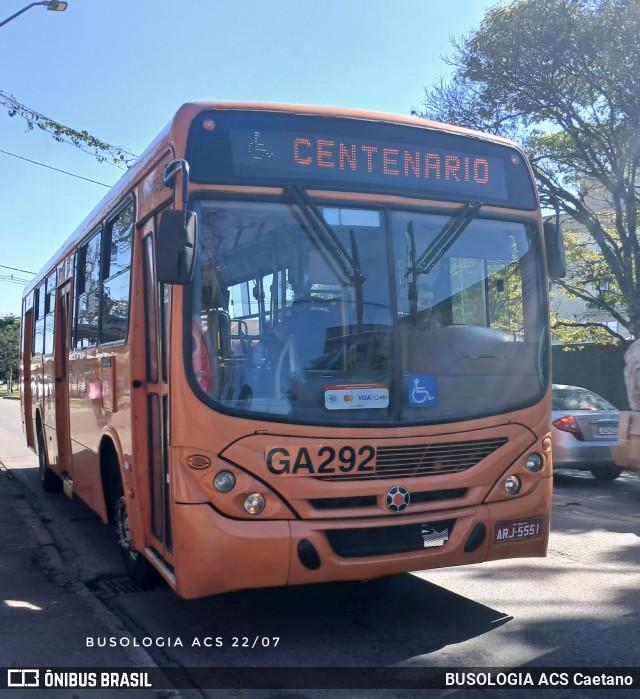CENTENARIO: (285, 129, 496, 191)
